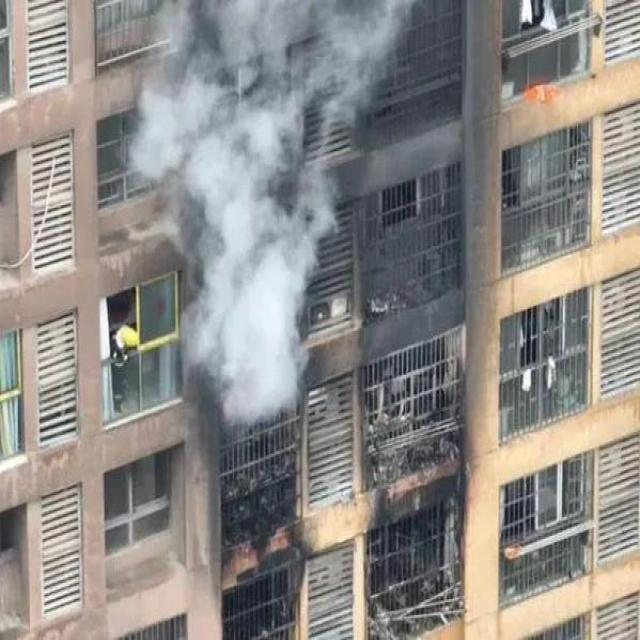Smoke: (138, 0, 406, 427)
